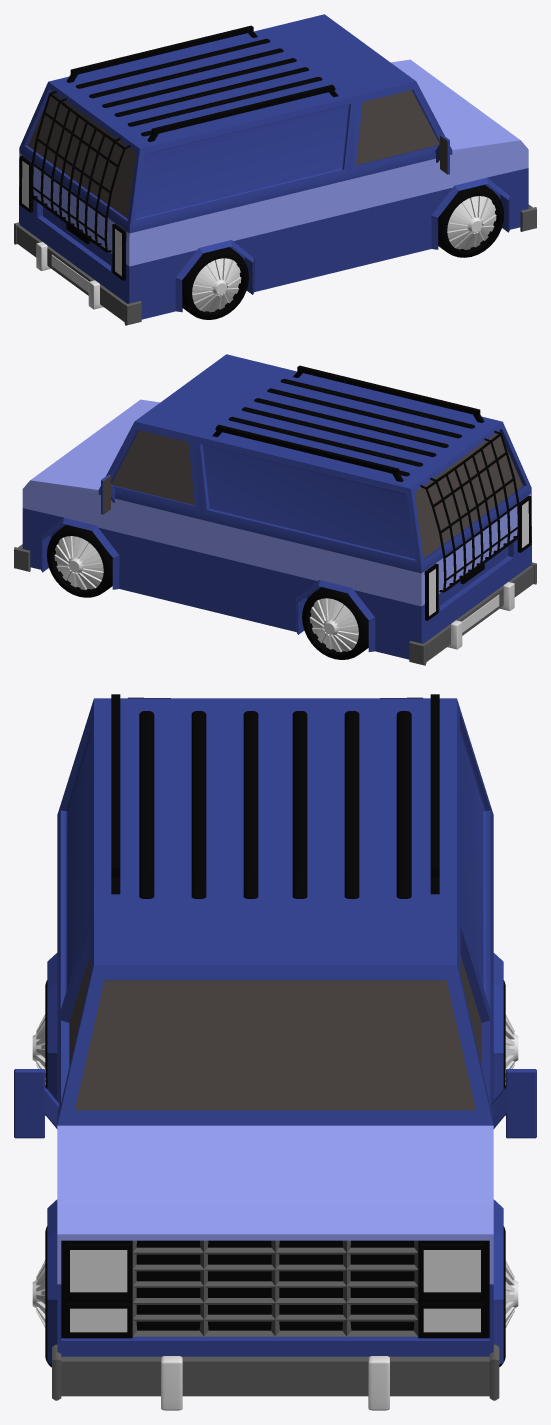
The model's file is Van lowpoly.fbx.
3 renders of one model, top to bottom at view 1: azimuth 30°, elevation 25°; view 2: azimuth 150°, elevation 25°; view 3: azimuth 270°, elevation 25°, orthographic. The views are drawn at different scales.
Visible parts, largest first — view 1: Cube, Cylinder.003, Cylinder.002; view 2: Cube, Cylinder.001, Cylinder; view 3: Cube, Cylinder.002, Cylinder, Cylinder.001, Cylinder.003.
Boxes of the visible parts, x1,y1,x2,y2 form: Cube: (14, 14, 536, 325); Cylinder.003: (182, 247, 248, 319); Cylinder.002: (438, 184, 503, 257); Cube: (14, 354, 536, 665); Cylinder.001: (302, 587, 368, 659); Cylinder: (47, 524, 112, 597); Cube: (14, 694, 536, 1410); Cylinder.002: (32, 1226, 51, 1367); Cylinder: (499, 1226, 518, 1366); Cylinder.001: (503, 980, 518, 1088); Cylinder.003: (32, 980, 47, 1088).
Size of the model in its own units: 776 by 335 by 422.
